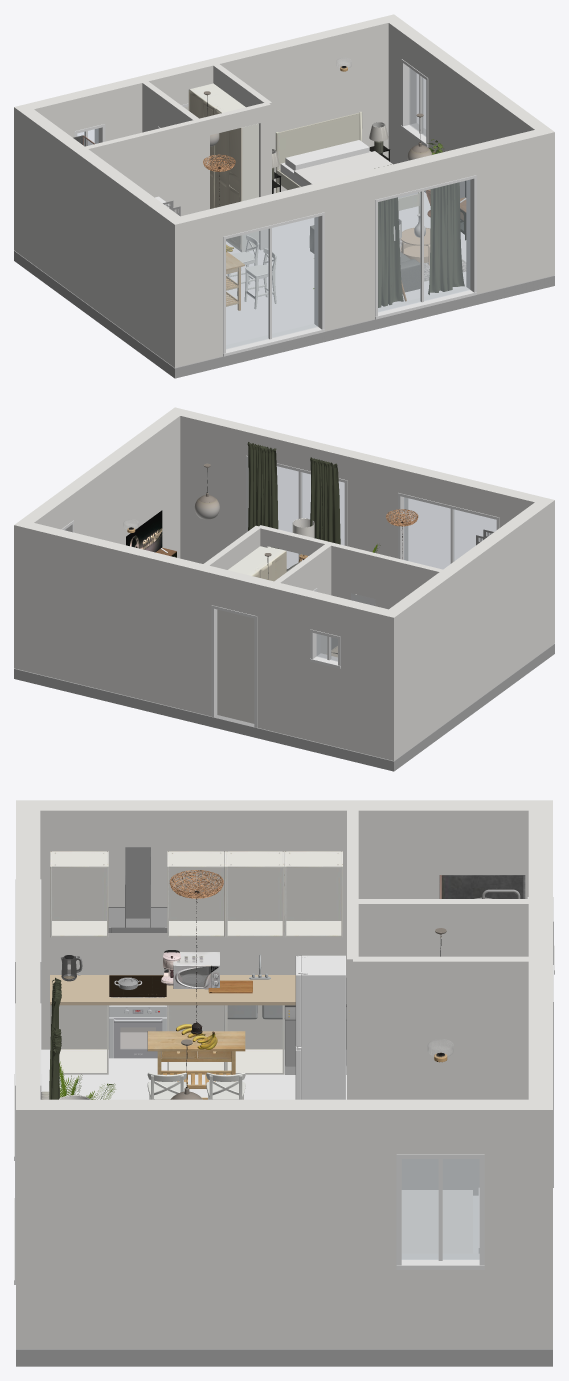
Rendered from loft35_scandi_furnished.glb.
The picture shows the model from 3 angles, top to bottom: view 1: azimuth 30°, elevation 25°; view 2: azimuth 150°, elevation 25°; view 3: azimuth 270°, elevation 25°; orthographic projection. The views are drawn at different scales.
Visible parts, largest first — view 1: Ext_W, Ext_N.005, Ext_S.004, Frame.010, Frame.004, Ext_S, Ext_S.002, y32, Ext_E, Floor_Studio, Slab, majgull_zasony_zaciemniajace_para_30586033.34 (+30 smaller); view 2: Ext_N.005, Ext_W, Ext_E, Ext_N, Ext_S.004, Ext_N.003, Slab, Ext_S.002, majgull_zasony_zaciemniajace_para_30586033.34, y32, Frame.004, EntranceDoor (+18 smaller); view 3: Ext_E, Ext_W, x36, Ext_E.003, Ext_N.005, Slab, Ext_S.004, Frame.025, fridge.18, Ext_E.001, kitchen_wall_cabinet.08, kitchen_wall_cabinet.10 (+34 smaller).
Part boxes in pixels (x1,y1,x2,y2): Ext_W: (21,109,179,362); Ext_N.005: (196,14,400,193); Ext_S.004: (469,127,554,294); Frame.010: (378,180,470,312); Frame.004: (226,217,318,348); Ext_S: (167,207,222,367); Ext_S.002: (317,170,374,331); y32: (85,117,209,215); Ext_E: (428,48,547,198); Floor_Studio: (226,207,466,344); Slab: (14,250,554,378); majgull_zasony_zaciemniajace_para_30586033.34: (374,149,464,307); Ext_N.005: (14,520,218,716); Ext_W: (389,502,547,755); Ext_E: (61,412,180,558); Ext_N: (341,599,401,760); Ext_S.004: (168,407,252,563); Ext_N.003: (257,579,317,740); Slab: (14,643,554,771); Ext_S.002: (347,451,404,558); majgull_zasony_zaciemniajace_para_30586033.34: (247,442,340,548); y32: (318,540,442,649); Frame.004: (404,497,496,569); EntranceDoor: (217,609,254,723); Ext_E: (40,1099,396,1348); Ext_W: (40,800,528,1049); x36: (353,956,528,1195); Ext_E.003: (484,1099,528,1348); Ext_N.005: (528,949,552,1348); Slab: (16,1349,552,1366); Ext_S.004: (16,1046,40,1348); Frame.025: (402,1159,479,1259); fridge.18: (295,955,345,1099); Ext_E.001: (396,1270,484,1348); kitchen_wall_cabinet.08: (50,851,108,937); kitchen_wall_cabinet.10: (226,851,284,937).
Size of the model in its own units: 7.52 by 2.9 by 5.54.
Materials: 111 (53 with a texture image).
